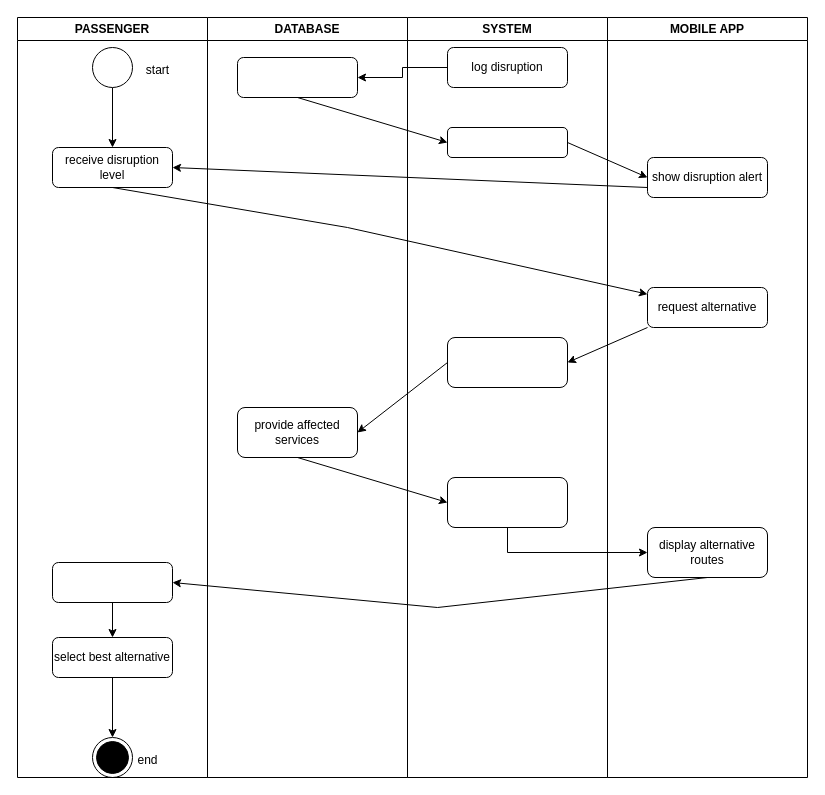
The diagram is 825 pixels wide and 795 high, and some of its shapes have lost their labels. The box of each missing label's shape, as (x1, y1, x2, y2) in pixels:
calculate alternatives: (446, 476, 568, 528)
get disruption details: (446, 336, 568, 388)
send alert: (446, 126, 568, 158)
store disruption: (236, 56, 358, 98)
view alternative routes: (52, 562, 172, 602)
